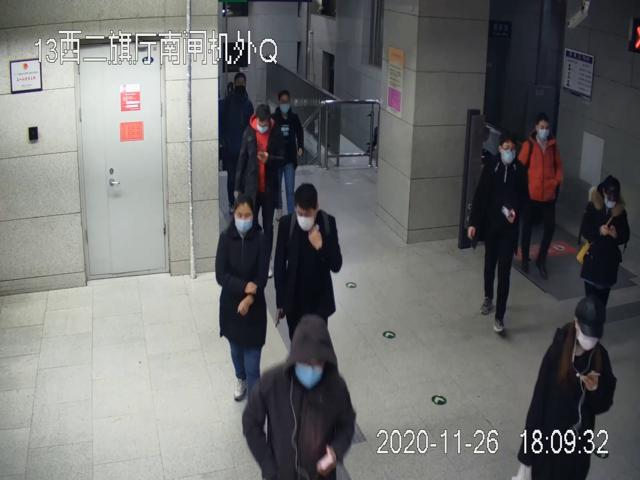person: (524, 299, 617, 480), (215, 199, 271, 411), (274, 184, 344, 351), (469, 131, 526, 332), (578, 174, 630, 331), (234, 102, 278, 281), (520, 115, 563, 280), (268, 91, 303, 224)
